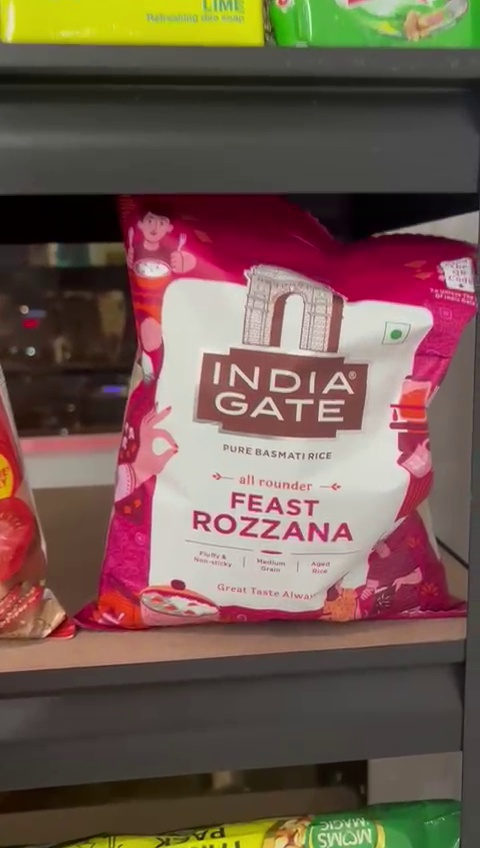India Gate Feast Rozzana: (119, 198, 465, 619)
